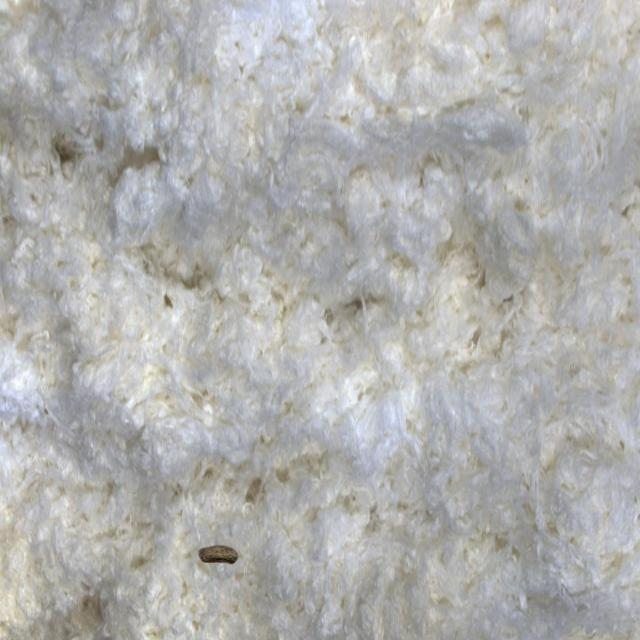dust: (182, 512, 252, 604)
